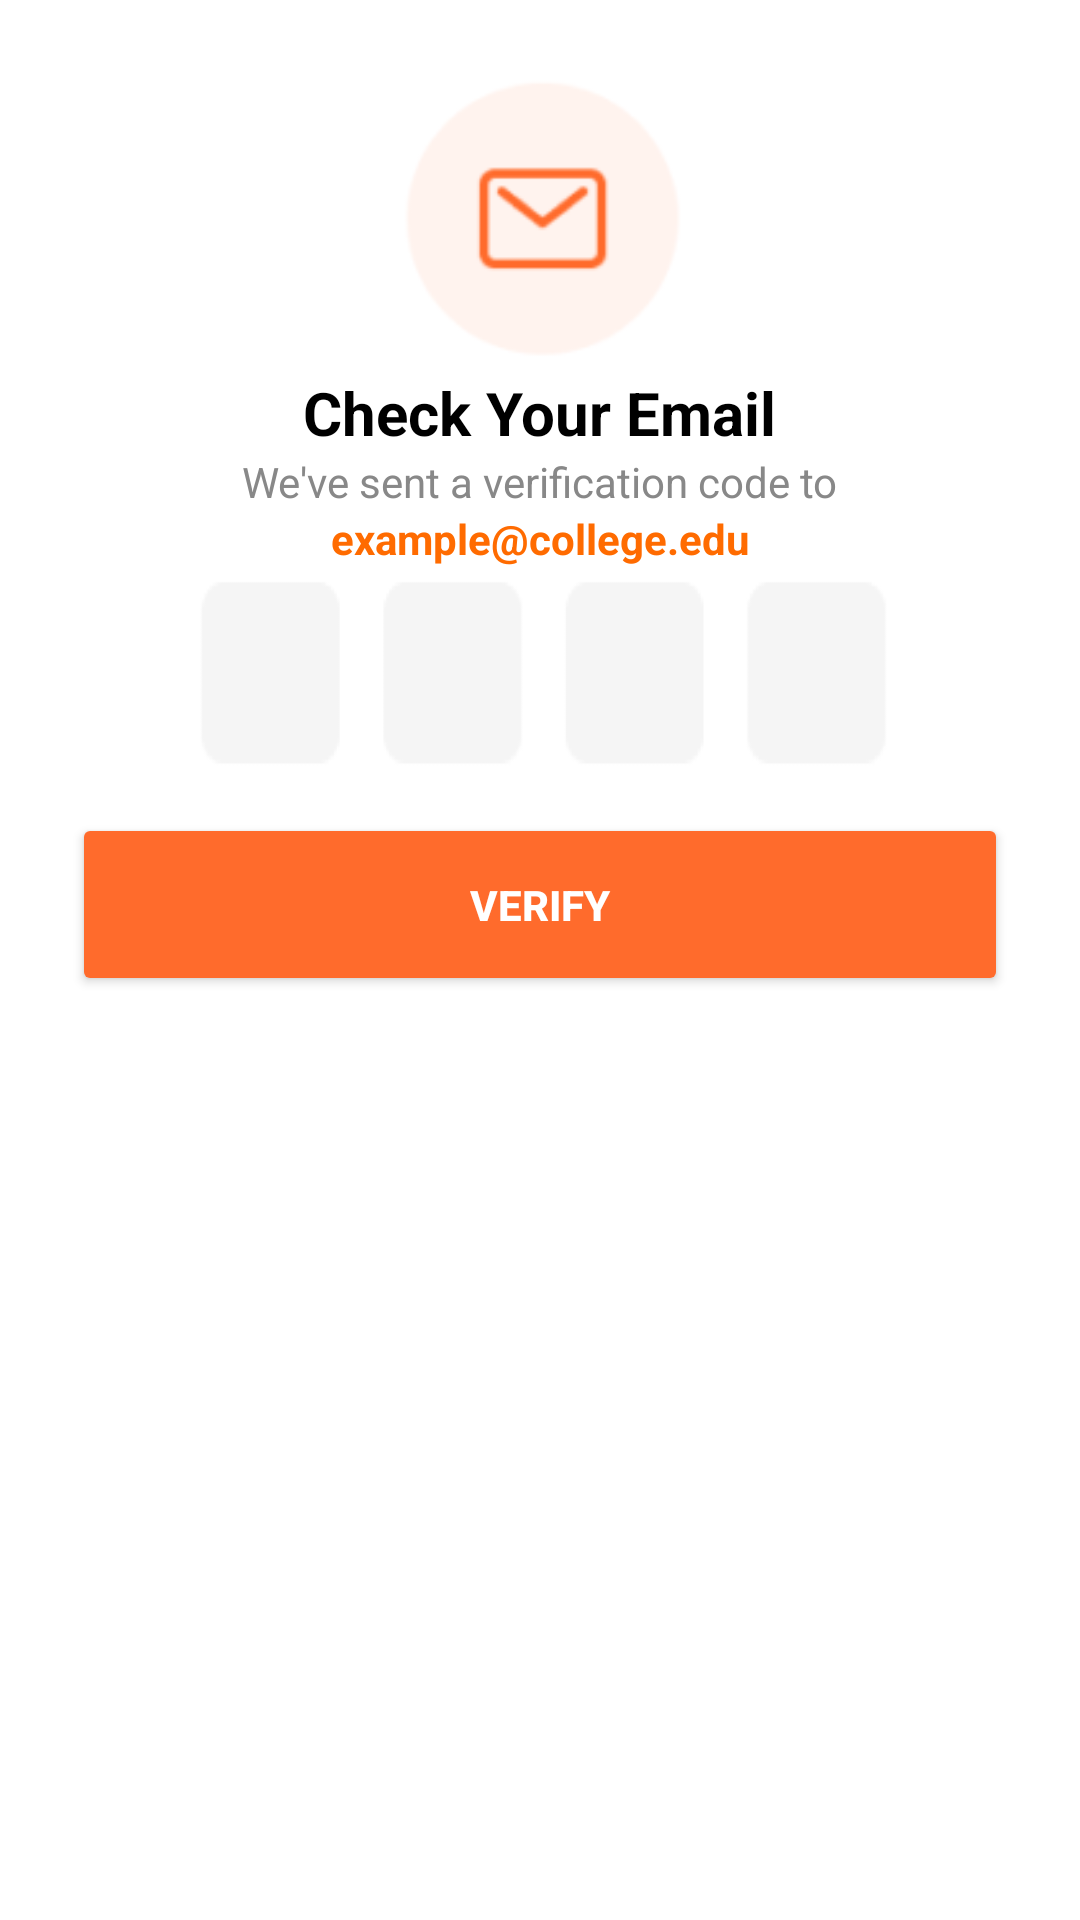

Screen size 1080px×1920px. Icon name, then its box in pixels as region(x1, y1, x2, y2):
Mail Icon: region(477, 167, 609, 271)
